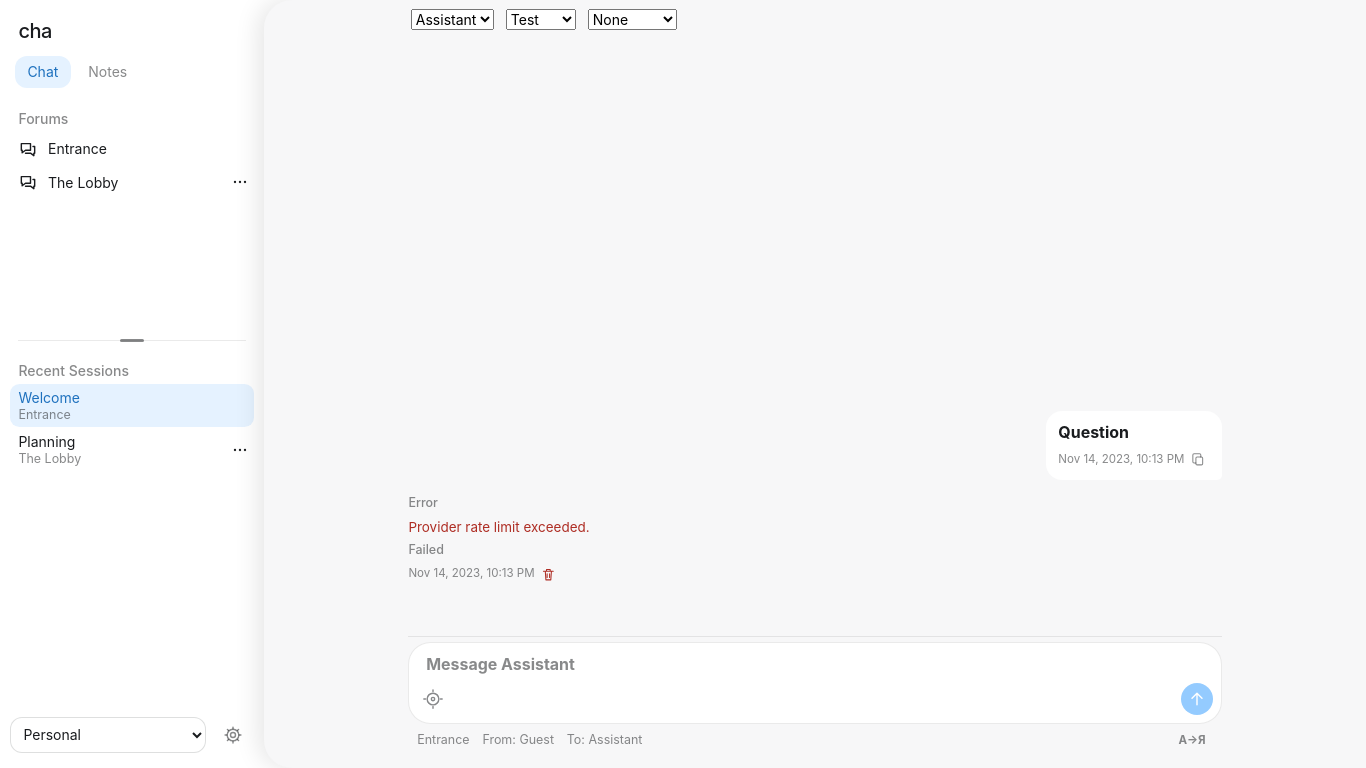
Test case: live chat › deletes an error report with the prompt that generated it
Expected: the text box labelled "Message" is enabled, [417,651,1213,679]
What coordinates should you click on to do the following:
click the button named "Delete error report and its prompt"
I would click on:
 (548, 574)
Its box is [538,564,559,584].
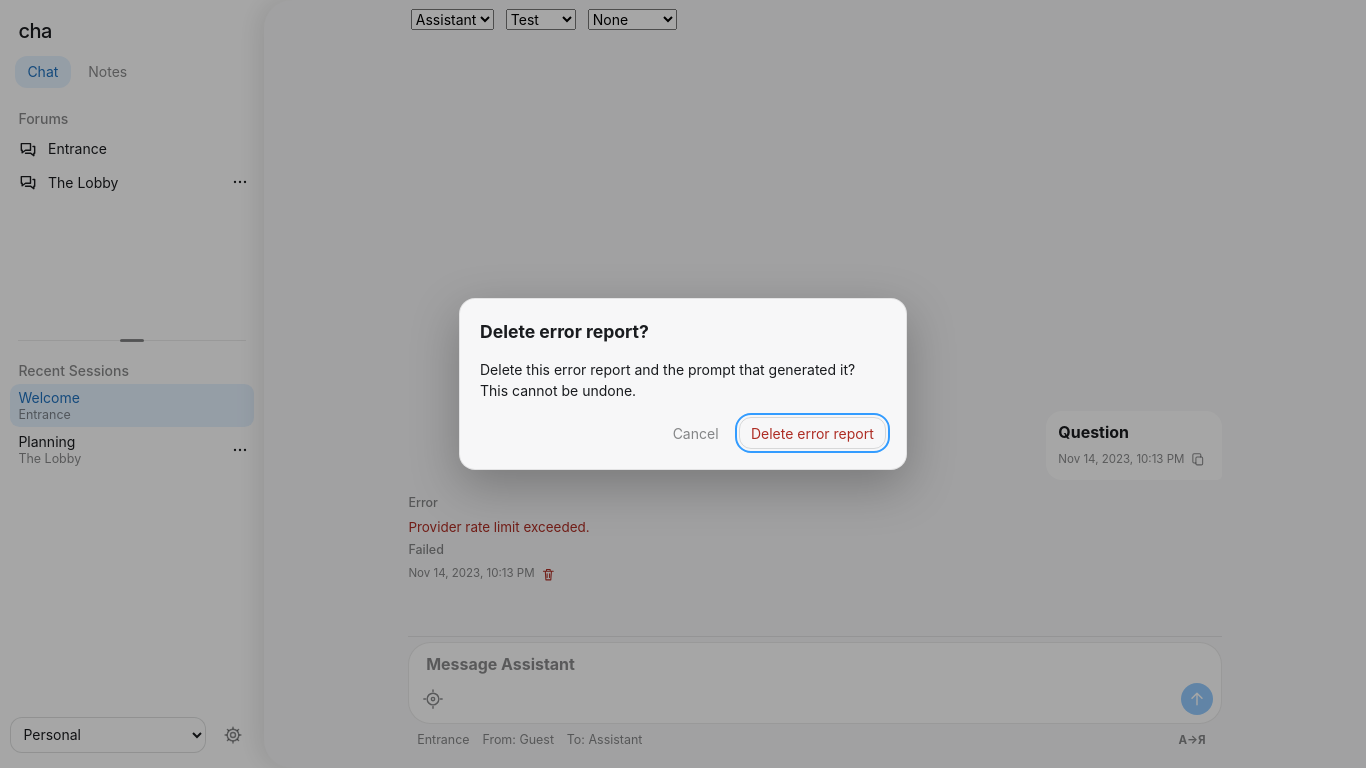
Expected: the text "Delete this error report and the prompt" is shown, [480,361,855,399]
What coordinates should you click on to do the following:
click the button "Delete error report"
I would click on:
 (812, 433)
Its box is [739,417,886,449].
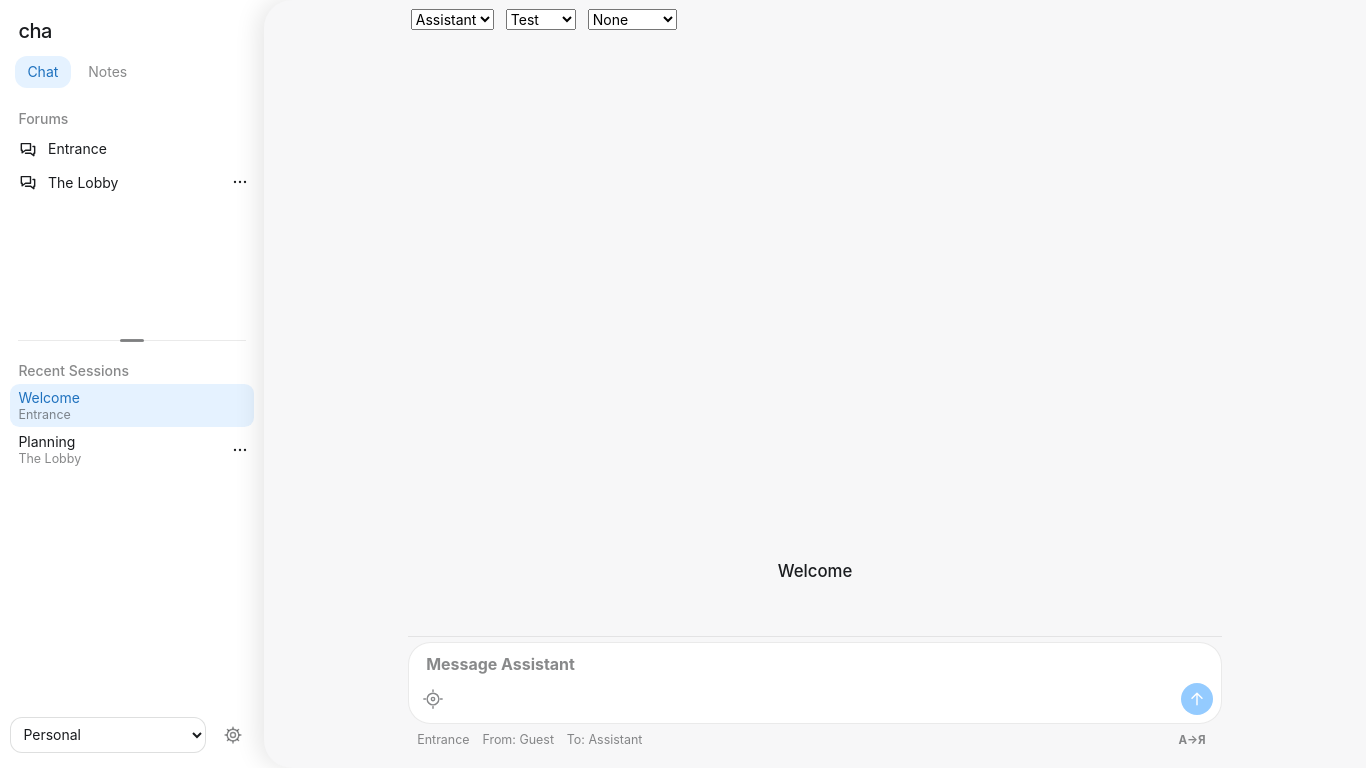
Expected: the text "Question" is gone
Expected: the text "Provider rate limit exceeded." is gone
